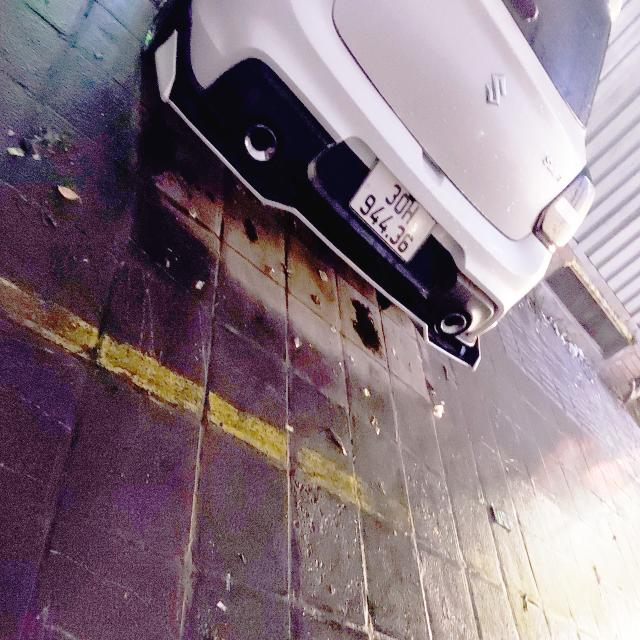license_plate: (346, 153, 444, 272)
